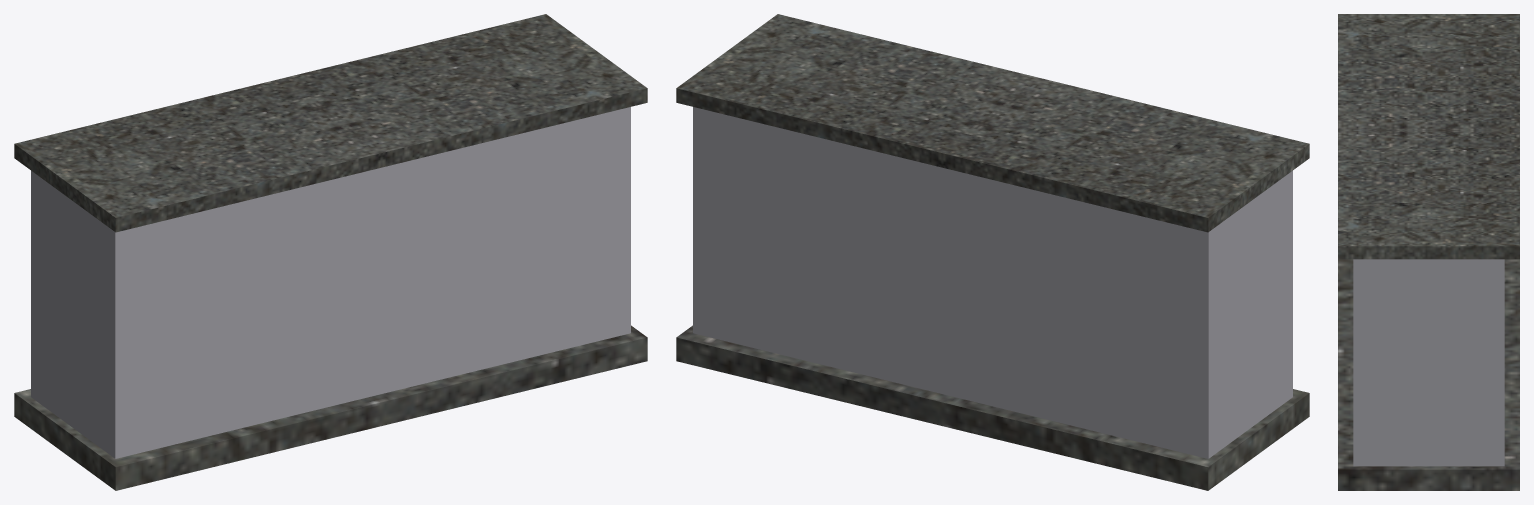
File: Kitchen_Table_2.fbx
3 views of the same model, side by side, from view 1: azimuth 30°, elevation 25°; view 2: azimuth 150°, elevation 25°; view 3: azimuth 270°, elevation 25° (orthographic). The views are drawn at different scales.
Visible parts, largest first — view 1: polySurface1567; view 2: polySurface1567; view 3: polySurface1567.
Boxes of the visible parts, x1,y1,x2,y2 form: polySurface1567: (14, 14, 647, 490); polySurface1567: (676, 14, 1309, 490); polySurface1567: (1338, 14, 1519, 490).
Size of the model in its own units: 2.3 by 1.13 by 0.76.
